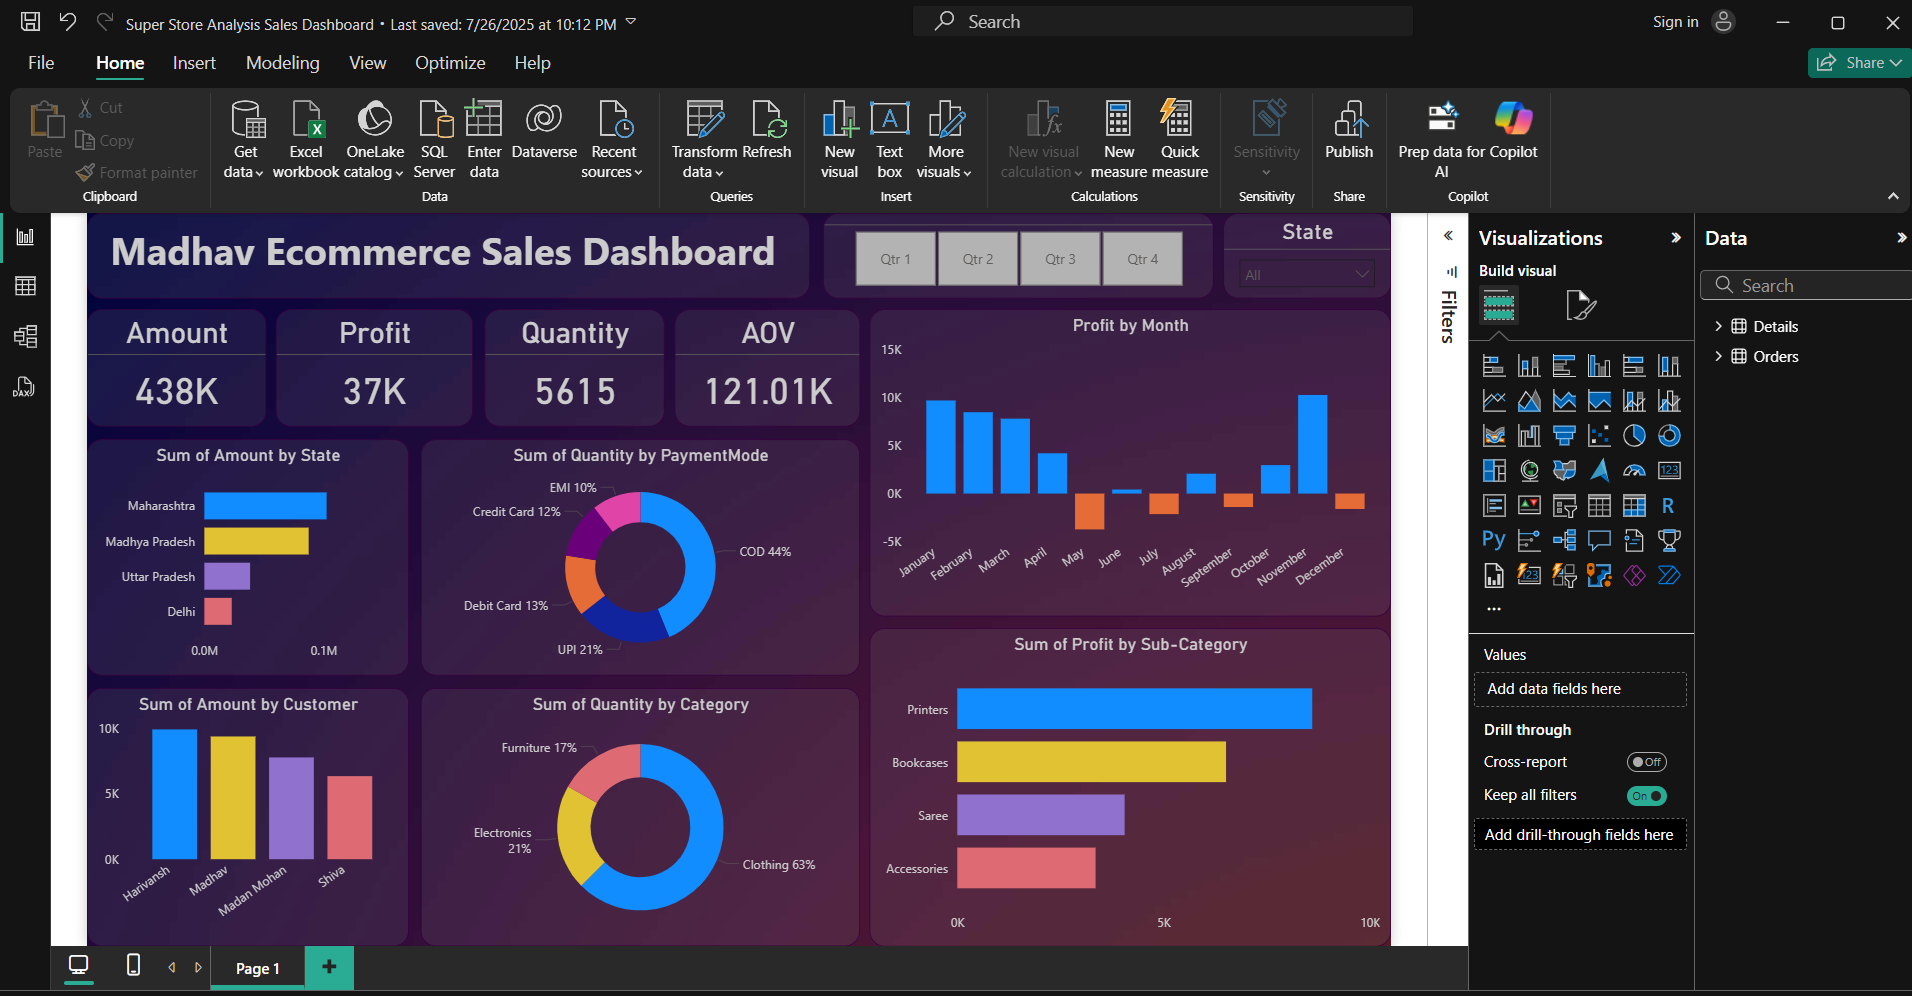

Layout of this report page (visuals, bound fields, positions):
{"tool":"powerbi","page":{"name":"Page 1","canvas":[1280,720],"ordinal":0},"visuals":[{"type":"textbox","box":[0,0,709.4,83.7],"z":0},{"type":"columnChart","title":"Profit by Month","fields":{"Y":["Details.Profit"],"Category":["Orders.Order Date.Variation.Date Hierarchy.Month"]},"box":[768.4,94.7,511.8,301.9],"z":1},{"type":"barChart","title":"Sum of Profit by Sub-Category","fields":{"Y":["Details.Profit"],"Category":["Details.Sub-Category"]},"box":[768.4,407.5,511.8,312.9],"z":2},{"type":"donutChart","fields":{"Y":["Details.Quantity"],"Category":["Details.Category"]},"box":[328,466.6,430.9,253.9],"z":3},{"type":"donutChart","fields":{"Y":["Details.Quantity"],"Category":["Details.PaymentMode"]},"box":[328,222.3,430.9,231.9],"z":4},{"type":"card","title":"Amount","fields":{"Values":["Details.Amount"]},"box":[0,94.7,175.6,115.3],"z":5},{"type":"card","title":"AOV","fields":{"Values":["Details.AOV"]},"box":[576.3,94.7,182.5,115.3],"z":7},{"type":"card","title":"Quantity","fields":{"Values":["Details.Quantity"]},"box":[389.7,94.7,177,115.3],"z":8},{"type":"card","title":"Profit","fields":{"Values":["Details.Profit"]},"box":[185.2,94.7,193.5,115.3],"z":9},{"type":"barChart","title":"Sum of Amount by State","fields":{"Y":["Details.Amount"],"Category":["Orders.State"]},"box":[0,222.3,315.6,231.9],"z":10},{"type":"columnChart","title":"Sum of Amount by Customer","fields":{"Y":["Details.Amount"],"Category":["Orders.CustomerName"]},"box":[0,466.6,315.6,253.9],"z":11},{"type":"slicer","fields":{"Values":["Orders.Order Date.Variation.Date Hierarchy.Quarter"]},"box":[723.2,0,382.8,83.7],"z":12},{"type":"slicer","title":"State","fields":{"Values":["Orders.State"]},"box":[1115.6,0,164.7,83.7],"z":13}]}

Visuals, with their boxes on the page's 1280x720 design canvas (x1, y1, x2, y2). These are canvas units, not pixel positions in the 1912x996 screenshot, which may show the page scaled, cropped or inside an application window:
textbox: rect(0, 0, 709, 84)
"Profit by Month" columnChart: rect(768, 95, 1280, 397)
"Sum of Profit by Sub-Category" barChart: rect(768, 408, 1280, 720)
donutChart - Details.Quantity x Details.Category: rect(328, 467, 759, 720)
donutChart - Details.Quantity x Details.PaymentMode: rect(328, 222, 759, 454)
"Amount" card: rect(0, 95, 176, 210)
"AOV" card: rect(576, 95, 759, 210)
"Quantity" card: rect(390, 95, 567, 210)
"Profit" card: rect(185, 95, 379, 210)
"Sum of Amount by State" barChart: rect(0, 222, 316, 454)
"Sum of Amount by Customer" columnChart: rect(0, 467, 316, 720)
slicer - Orders.Order Date.Variation.Date Hierarchy.Quarter: rect(723, 0, 1106, 84)
"State" slicer: rect(1116, 0, 1280, 84)
